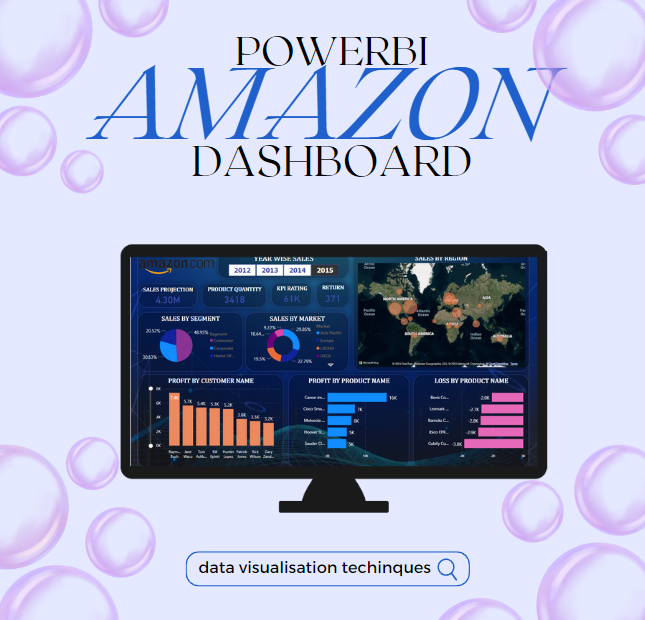

What the dashboard file says about the page in this screenshot:
{"tool":"powerbi","page":{"name":"REPORT 2","canvas":[1280,720],"ordinal":1},"visuals":[{"type":"slicer","title":"YEAR WISE SALES","fields":{"Values":["Orders.Year"]},"box":[261.2,13.8,428.8,87.5],"z":0},{"type":"card","title":"SALES PROJECTION","fields":{"Values":["Orders.Sales"]},"box":[0,117.5,195,78.8],"z":1000},{"type":"card","title":"PRODUCT QUANTITY","fields":{"Values":["Orders.Product Name"]},"box":[210,116.2,210,80],"z":2000},{"type":"card","title":"KPI RATING","fields":{"Values":["Orders.Quantity"]},"box":[436.2,113.8,132.5,80],"z":3000},{"type":"card","title":"RETURN","fields":{"Values":["Orders.Ship Date"]},"box":[583.8,110,106.2,86.2],"z":4000},{"type":"pieChart","title":"SALES BY SEGMENT","fields":{"Category":["Orders.Segment"],"Y":["Orders.Sales"]},"box":[0,210,343.8,193.8],"z":5000},{"type":"donutChart","title":"SALES BY MARKET","fields":{"Y":["Orders.Sales"],"Category":["Orders.Market"]},"box":[352.5,210,337.5,193.8],"z":6000},{"type":"columnChart","title":"PROFIT BY CUSTOMER NAME","fields":{"Category":["Orders.Customer Name"],"Y":["Orders.Profit"]},"box":[0,415,476.2,305],"z":7000},{"type":"clusteredBarChart","title":"PROFIT BY PRODUCT NAME","fields":{"Y":["Orders.Profit"],"Category":["Orders.Product Name"]},"box":[492.5,415,395,305],"z":8000},{"type":"clusteredBarChart","title":"LOSS BY PRODUCT NAME","fields":{"Y":["Orders.Profit"],"Category":["Orders.Product Name"]},"box":[901.2,415,378.8,305],"z":9000},{"type":"map","title":"SALES BY REGION","fields":{"Size":["Orders.Profit"],"Category":["Orders.Region"]},"box":[703.8,13.8,576.2,390],"z":10000},{"type":"image","box":[0,0,261.2,110],"z":11000}]}

Visuals, with their boxes on the page's 1280x720 design canvas (x1, y1, x2, y2). These are canvas units, not pixel positions in the 645x620 screenshot, which may show the page scaled, cropped or inside an application window:
"YEAR WISE SALES" slicer: locate(261, 14, 690, 101)
"SALES PROJECTION" card: locate(0, 118, 195, 196)
"PRODUCT QUANTITY" card: locate(210, 116, 420, 196)
"KPI RATING" card: locate(436, 114, 569, 194)
"RETURN" card: locate(584, 110, 690, 196)
"SALES BY SEGMENT" pieChart: locate(0, 210, 344, 404)
"SALES BY MARKET" donutChart: locate(352, 210, 690, 404)
"PROFIT BY CUSTOMER NAME" columnChart: locate(0, 415, 476, 720)
"PROFIT BY PRODUCT NAME" clusteredBarChart: locate(492, 415, 888, 720)
"LOSS BY PRODUCT NAME" clusteredBarChart: locate(901, 415, 1280, 720)
"SALES BY REGION" map: locate(704, 14, 1280, 404)
image: locate(0, 0, 261, 110)
